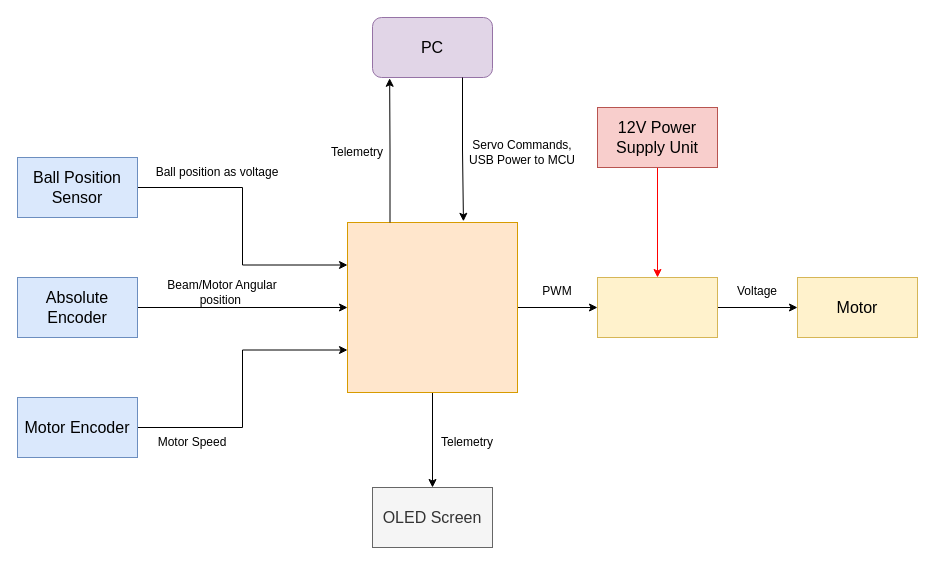
The diagram is 935 pixels wide and 565 high, and some of its shapes have lost their labels. Each missing label, with the centre of its shape:
"MCU STM32F401CCU6" goes at point 432,307.
"Motor Driver" goes at point 657,307.
